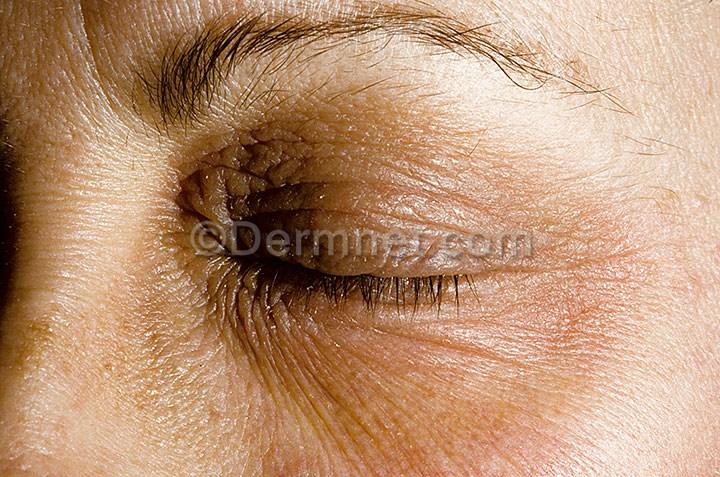Eczema: (405, 316, 616, 477), (194, 309, 402, 459), (501, 148, 635, 312), (76, 249, 205, 404), (354, 118, 497, 246), (226, 127, 360, 224)
